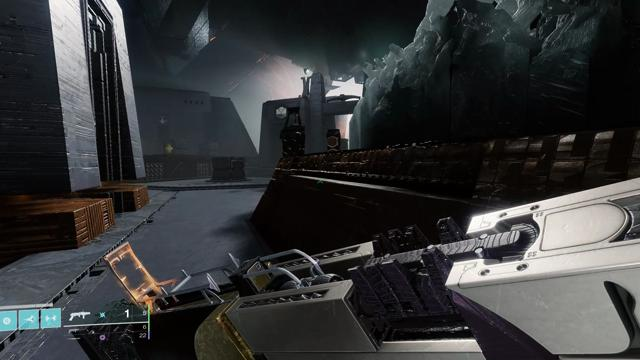commune: (276, 107, 287, 119)
drink: (158, 115, 168, 124)
